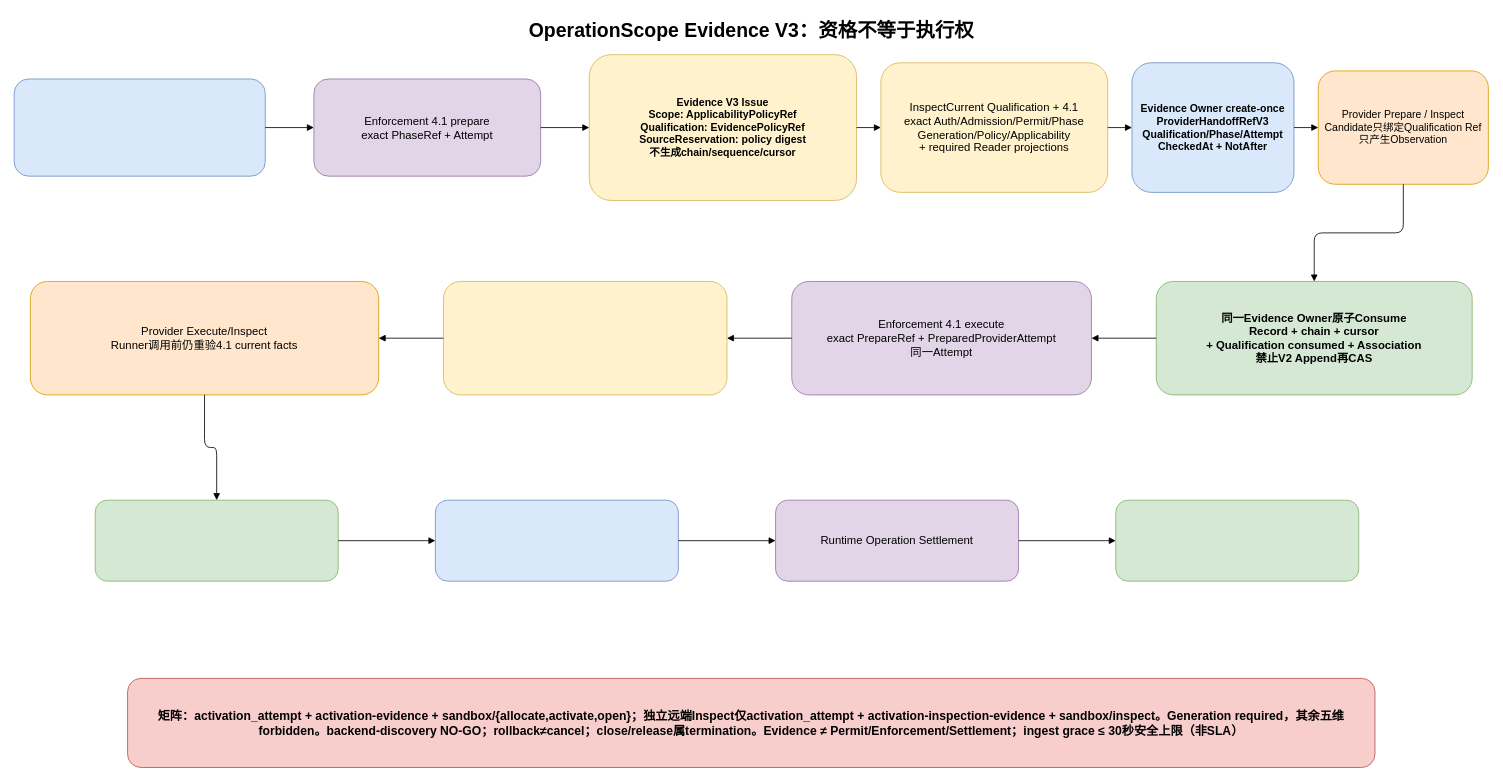
Image size: 1503x782. Some labels were removed from this diagram. Here are the shapes that lost their labels. From the top down, the box of each, then its label:
(13, 78, 265, 176): Operation V3 Intent/Reservation Authorization V4 → Permit → Begin
(443, 281, 727, 395): execute独立资格 + InspectCurrent + 新ProviderHandoff prepare资格不可复用
(94, 499, 338, 581): 第二次原子Consume 正式Evidence Record
(435, 499, 678, 581): Domain Owner Inspect/CAS DomainResultFact
(1115, 499, 1359, 581): Domain ApplySettlement
